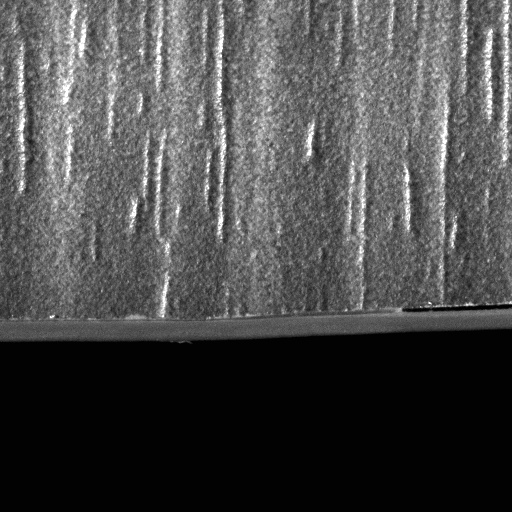jiaofeng: (397, 301, 511, 323)
